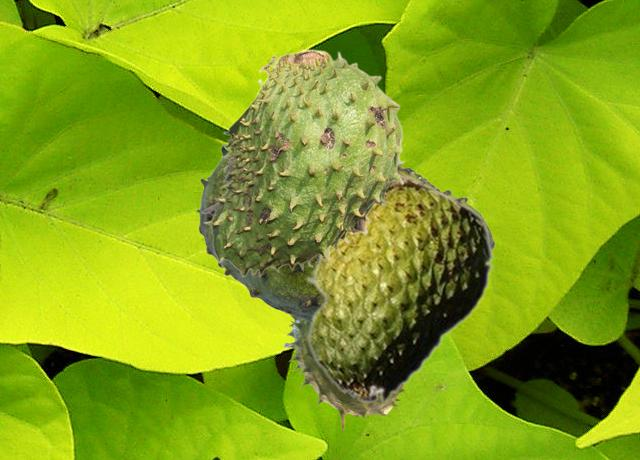guyabano: (196, 142, 494, 321), (201, 49, 404, 277), (304, 172, 493, 406), (284, 315, 404, 429)
